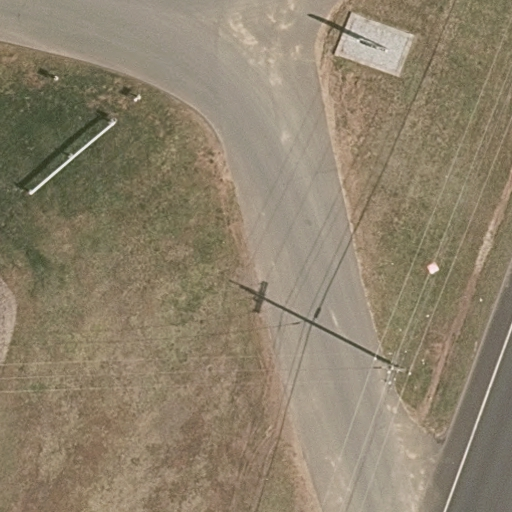DT: (369, 342, 420, 392)
